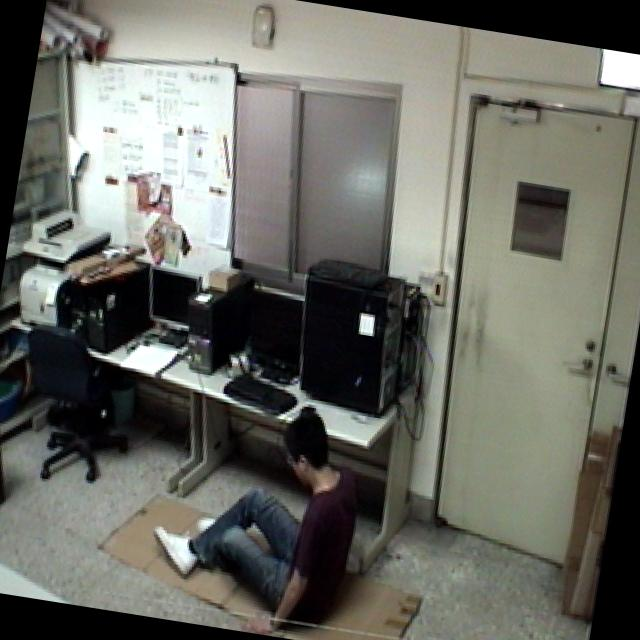sit: (131, 377, 382, 640)
